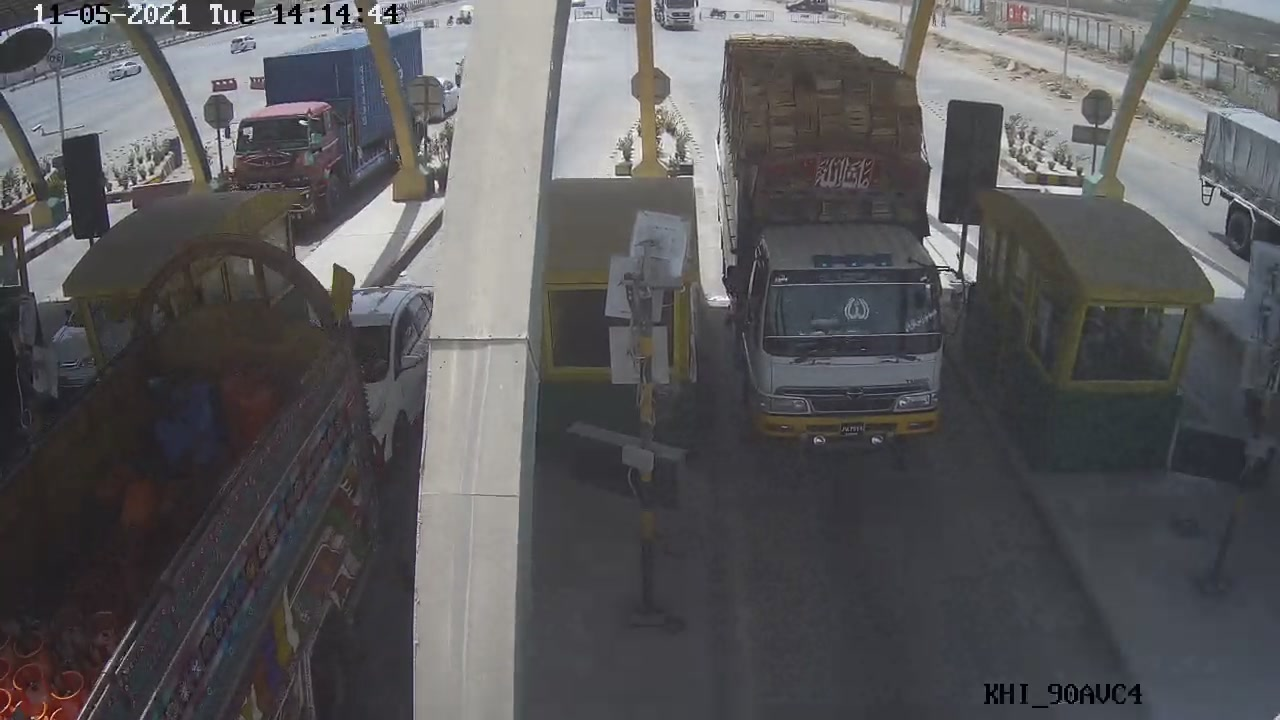F5: (703, 44, 957, 475)
